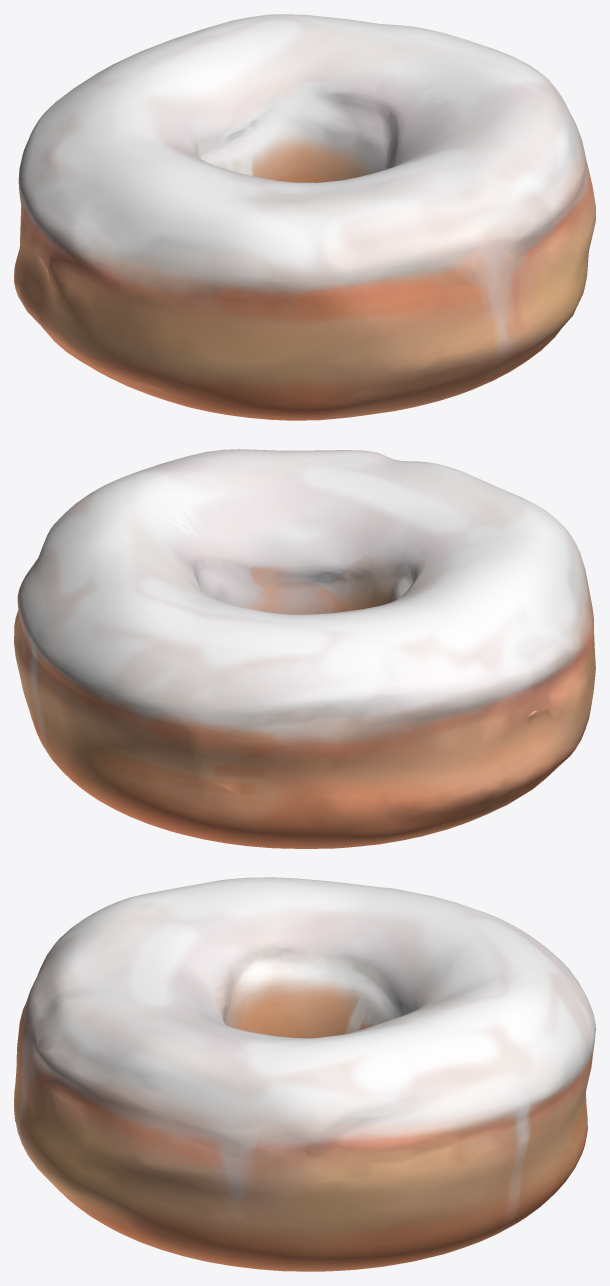
Rendered from donut.glb.
3 views of the same model, one above another, from view 1: azimuth 30°, elevation 25°; view 2: azimuth 150°, elevation 25°; view 3: azimuth 270°, elevation 25° (orthographic).
Visible parts, largest first — view 1: Torus_0; view 2: Torus_0; view 3: Torus_0.
Part boxes in pixels (x1,y1,x2,y2): Torus_0: (14,14,595,420); Torus_0: (14,449,595,848); Torus_0: (14,877,595,1271).
Size of the model in its own units: 3.17 by 1.34 by 3.13.
Materials: 1 (1 with a texture image).
